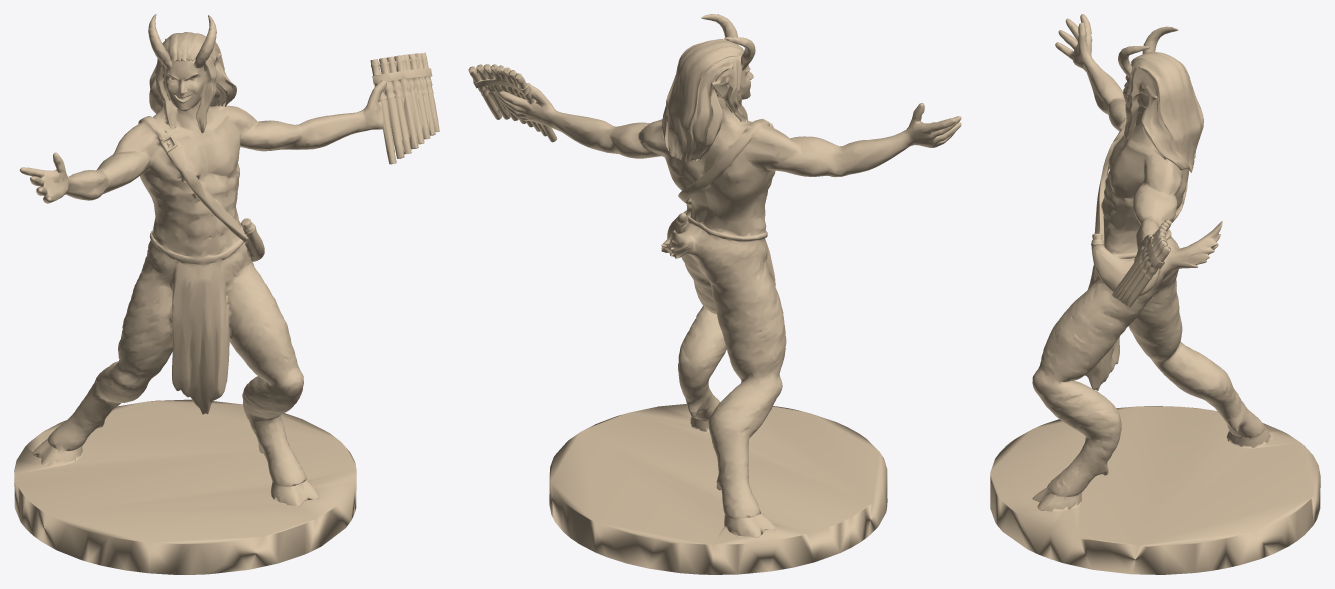
File: satyr.glb
3 renders of one model, left to right at view 1: azimuth 30°, elevation 25°; view 2: azimuth 150°, elevation 25°; view 3: azimuth 270°, elevation 25°, orthographic. The views are drawn at different scales.
Visible parts, largest first — view 1: satyr; view 2: satyr; view 3: satyr.
Part boxes in pixels (<box>): satyr: <box>14,14,439,574</box>; satyr: <box>468,14,961,574</box>; satyr: <box>990,14,1320,574</box>.
Size of the model in its own units: 38.31 by 39.48 by 25.24.
